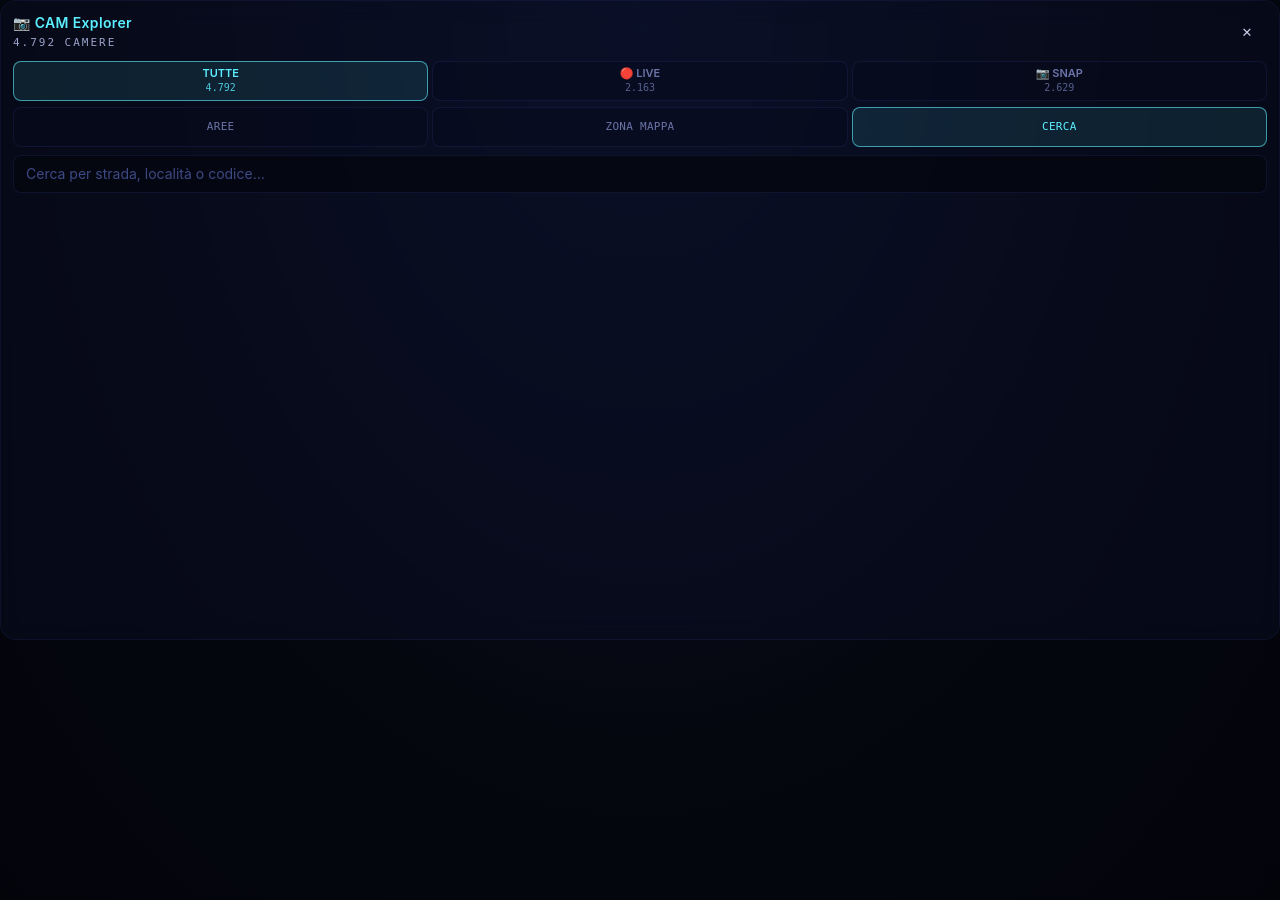
Test case: CAM Explorer — esplorazione › Cerca: ricerca locale su nome/località/id
The width and height of the screenshot is (1280, 900).
Type "piccadilly" into the search field.
click(640, 174); type("piccadilly")  # box [13,155,1267,193]
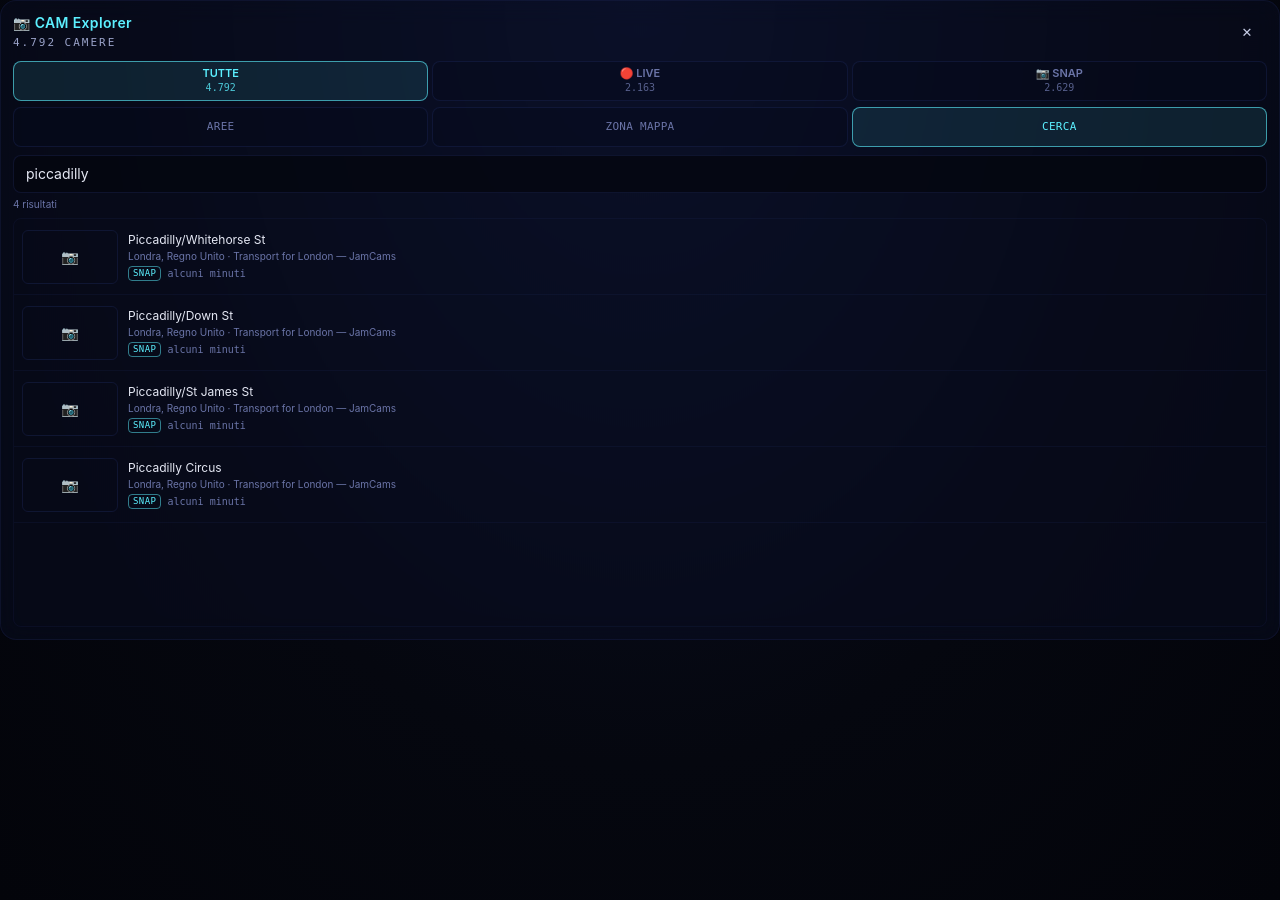
Now the message shows "risultati", box [13,198,57,210]
Replace the text in the search field with "zzzz-nessuna" at (640, 174), box [13,155,1267,193]
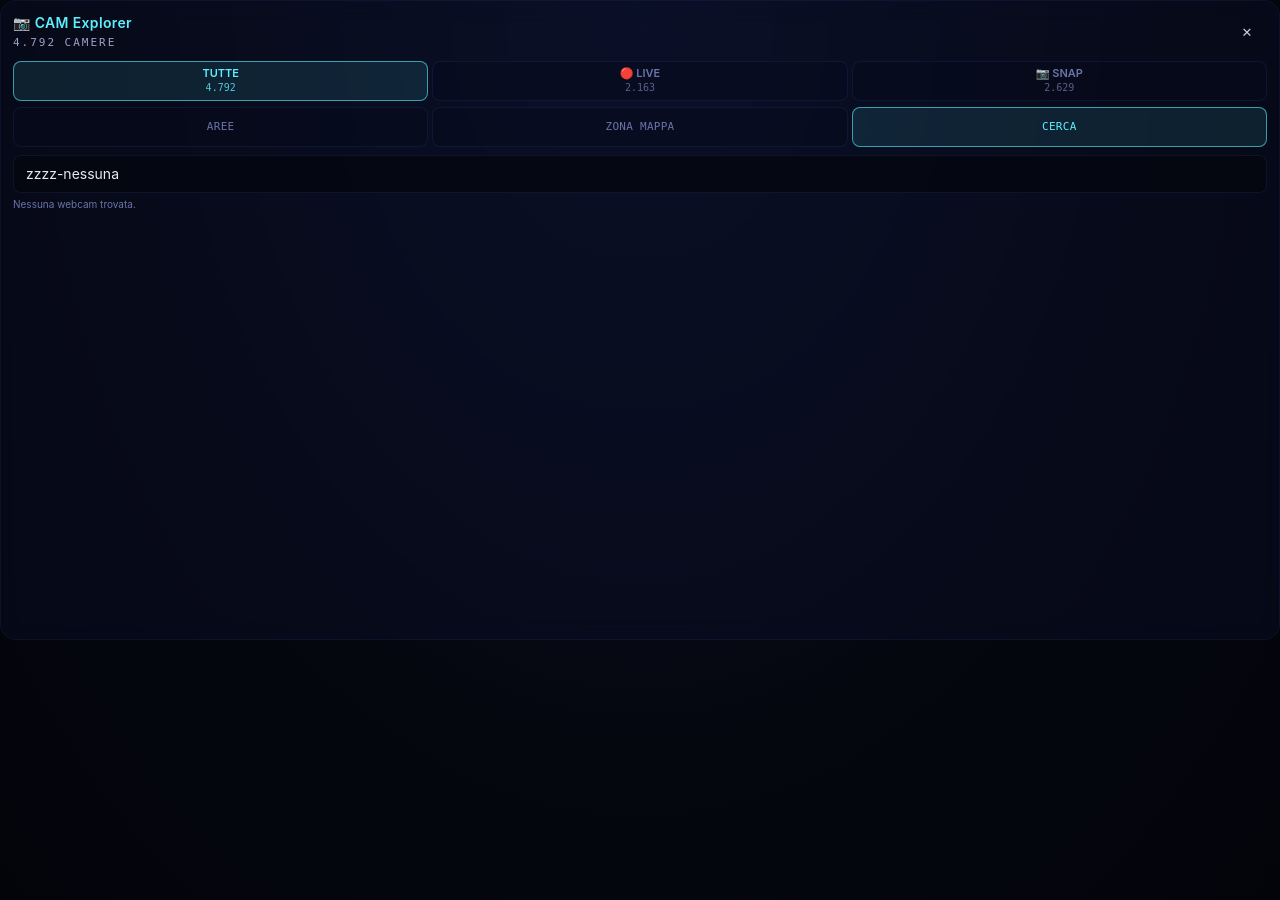
Now the text "Nessuna webcam trovata." is shown, box [13,198,136,210]
